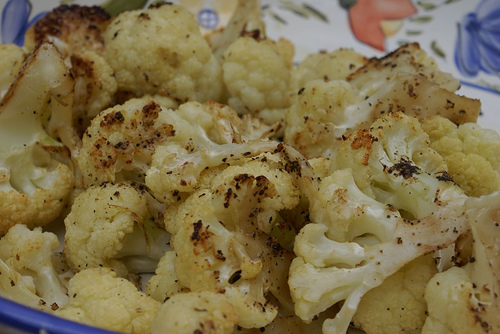cauliflower: (2, 3, 499, 333)
